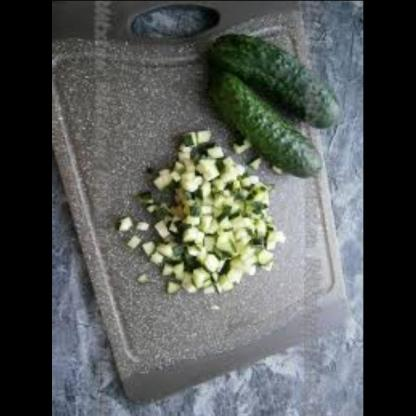cucumber: (116, 122, 286, 297), (204, 32, 352, 129), (210, 70, 333, 185)
